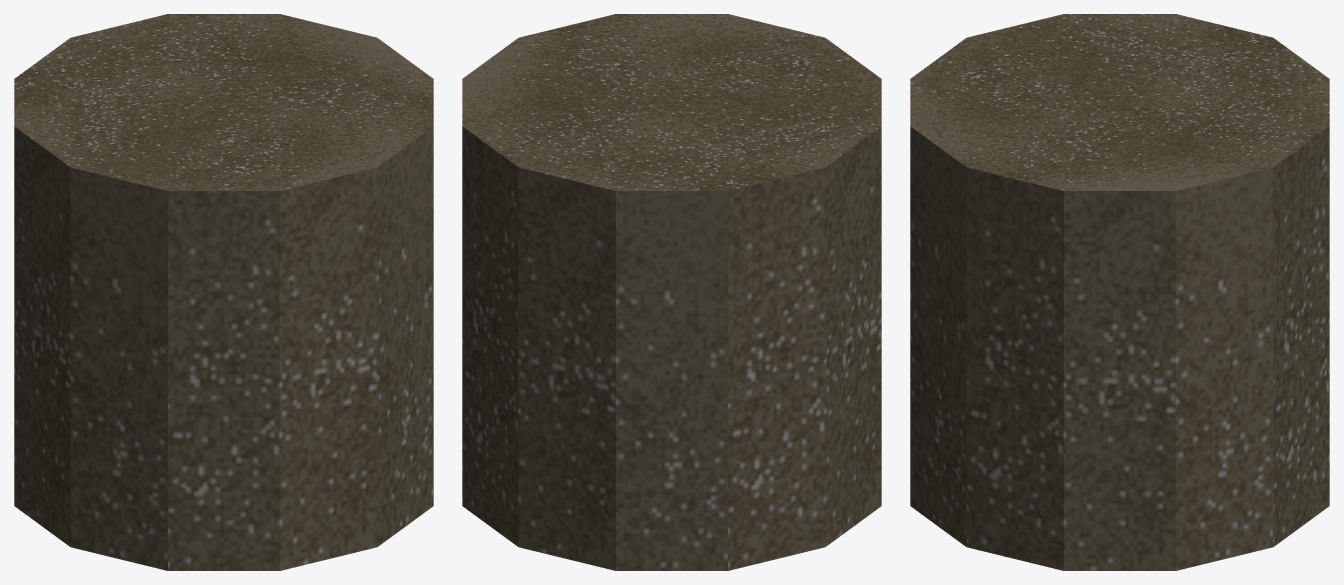
Rendered from Dirt Island.obj.
3 views of the same model, side by side, from view 1: azimuth 30°, elevation 25°; view 2: azimuth 150°, elevation 25°; view 3: azimuth 270°, elevation 25° (orthographic).
Visible parts, largest first — view 1: cylinder; view 2: cylinder; view 3: cylinder.
Boxes of the visible parts, x1,y1,x2,y2 form: cylinder: [14, 14, 433, 570]; cylinder: [462, 14, 881, 570]; cylinder: [910, 14, 1329, 570].
Size of the model in its own units: 1 by 1 by 1.
1 material, 1 textured.
